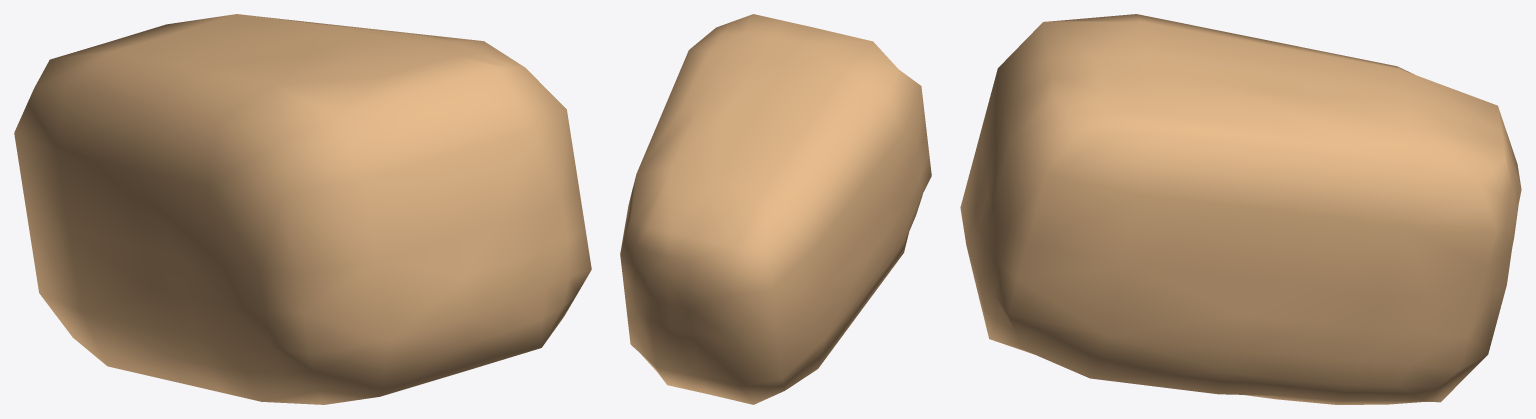
The model's file is thumb_02_l.dae.
3 views of the same model, side by side, from view 1: azimuth 30°, elevation 25°; view 2: azimuth 150°, elevation 25°; view 3: azimuth 270°, elevation 25° (orthographic). The views are drawn at different scales.
Parts seen in each view (by area): view 1: skin_geo_thumb_02_r; view 2: skin_geo_thumb_02_r; view 3: skin_geo_thumb_02_r.
Boxes of the visible parts, bbox=[...] form: skin_geo_thumb_02_r: bbox=[14, 14, 591, 404]; skin_geo_thumb_02_r: bbox=[620, 14, 931, 404]; skin_geo_thumb_02_r: bbox=[960, 14, 1521, 404].
Size of the model in its own units: 0.0257 by 0.04 by 0.0272.
